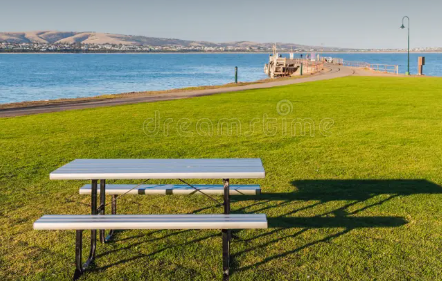obstacle: (34, 151, 272, 271)
